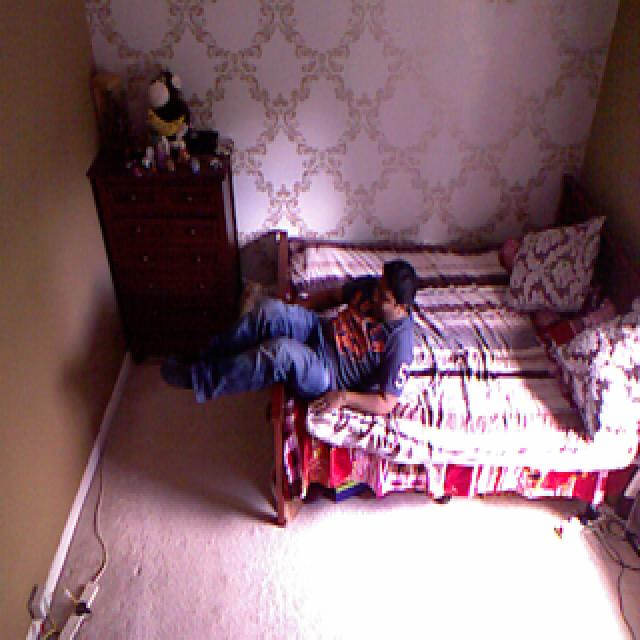bending: (153, 260, 419, 414)
